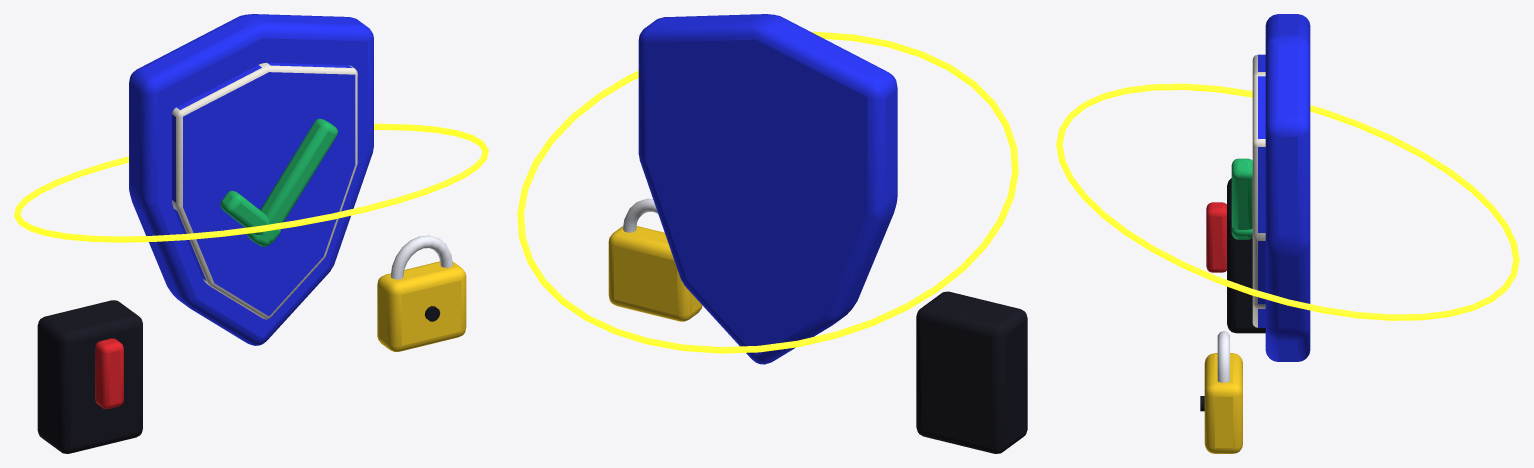
The model's file is shield.glb.
3 renders of one model, left to right at view 1: azimuth 30°, elevation 25°; view 2: azimuth 150°, elevation 25°; view 3: azimuth 270°, elevation 25°, orthographic. The views are drawn at different scales.
Parts seen in each view (by area): view 1: shield.001, breaker, bob_lock, spin_orbit, tick, swing_lever; view 2: shield.001, breaker, spin_orbit, bob_lock; view 3: shield.001, spin_orbit, bob_lock, breaker, tick, swing_lever.
Boxes of the visible parts, x1,y1,x2,y2 form: shield.001: (129, 14, 373, 345); breaker: (37, 300, 142, 453); bob_lock: (377, 235, 466, 351); spin_orbit: (14, 123, 488, 242); tick: (220, 118, 337, 246); swing_lever: (95, 338, 123, 408); shield.001: (638, 14, 897, 364); breaker: (916, 291, 1027, 453); spin_orbit: (517, 31, 1018, 353); bob_lock: (608, 198, 702, 321); shield.001: (1252, 14, 1310, 361); spin_orbit: (1056, 83, 1519, 320); bob_lock: (1200, 331, 1242, 453); breaker: (1227, 178, 1265, 333); tick: (1231, 158, 1252, 239); swing_lever: (1206, 202, 1226, 272).
Size of the model in its own units: 7.7 by 6.27 by 7.23.
